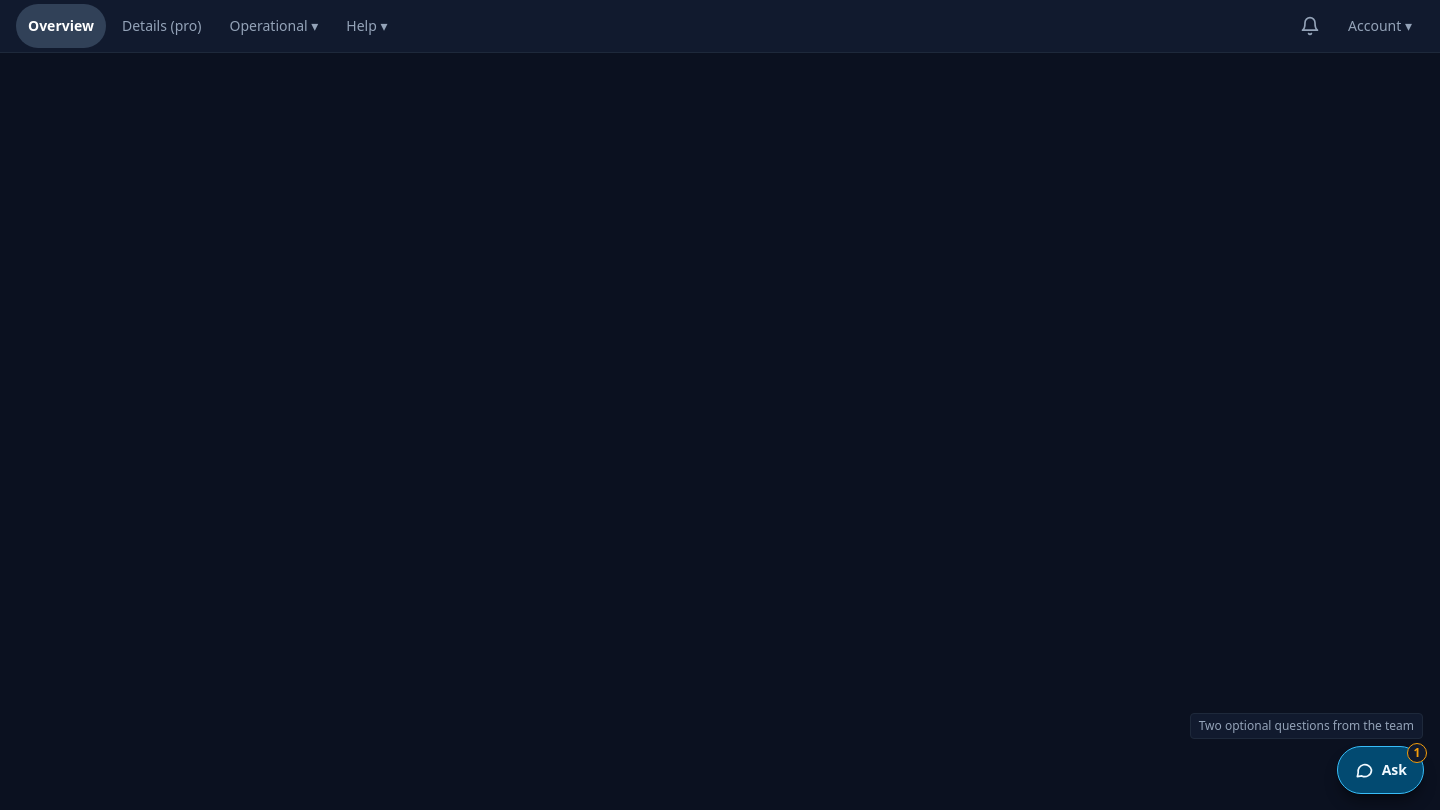
Test: Scenario: Second tab or device › another tab recorded it first (409): this tab shows no card and sends no event
Click the button with aria-label "Ask (two optional questions waiting)": (1380, 770) [1337,746,1424,794]
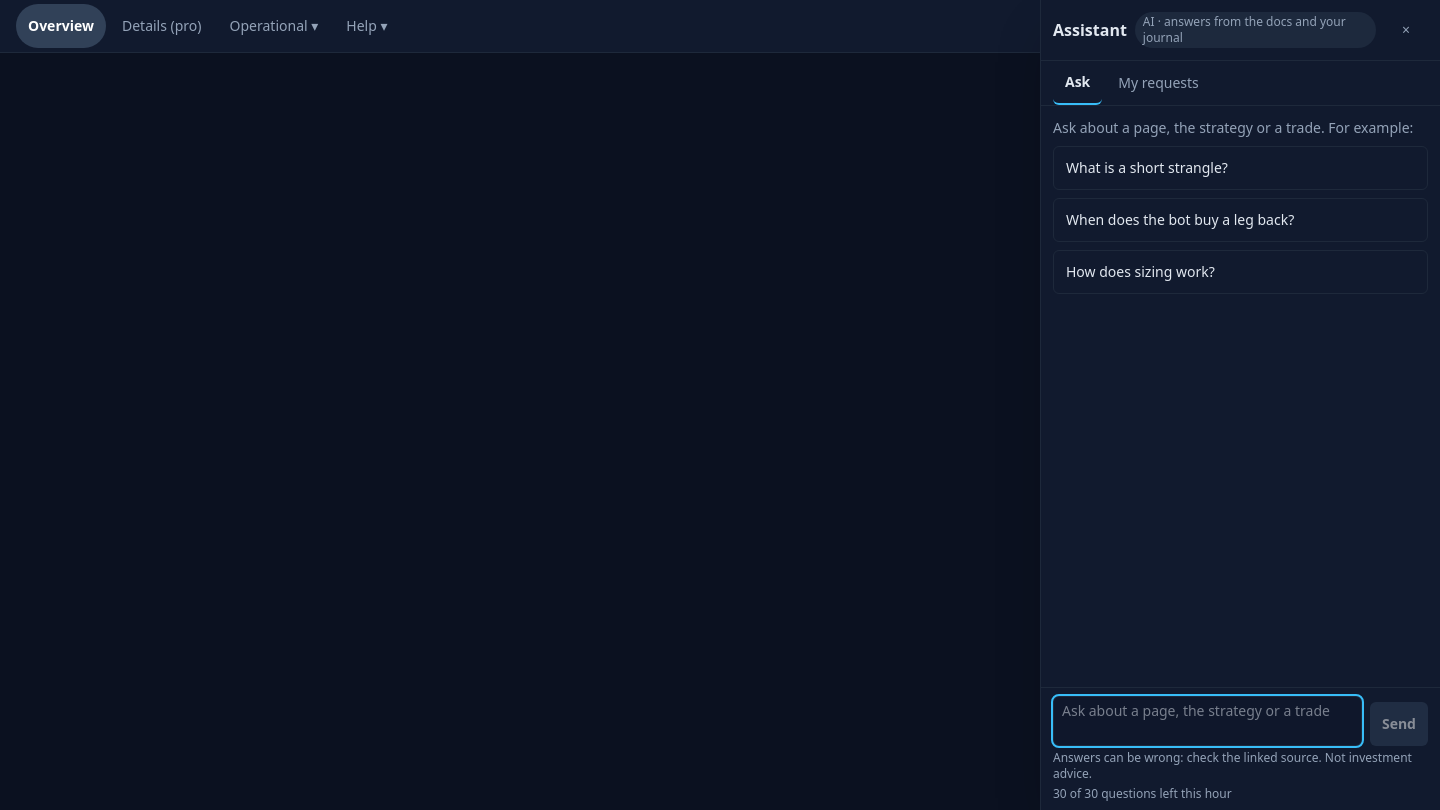
Result: the text "optional questions from the team" is gone
